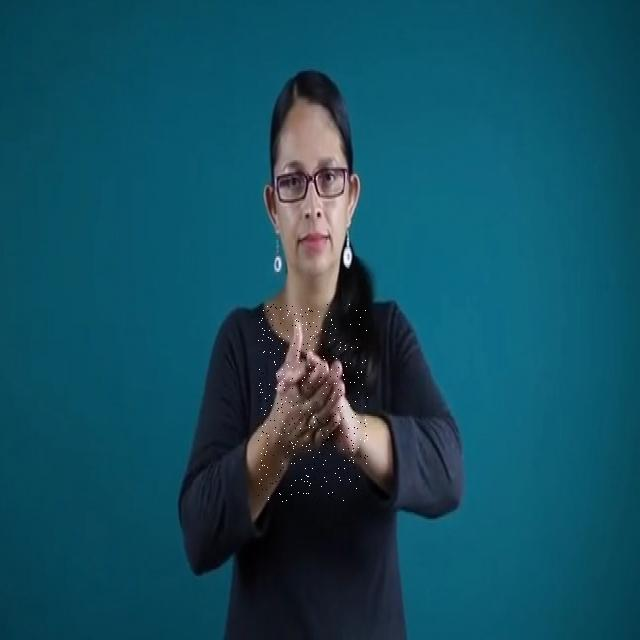burger: (258, 304, 368, 504)
